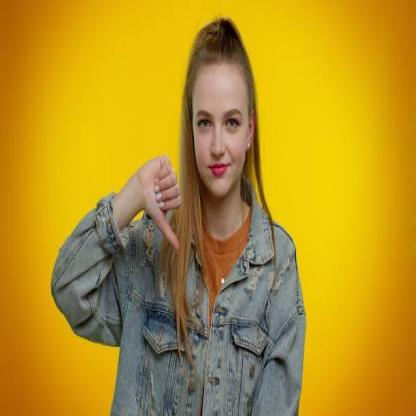thumb_down: (138, 150, 183, 255)
